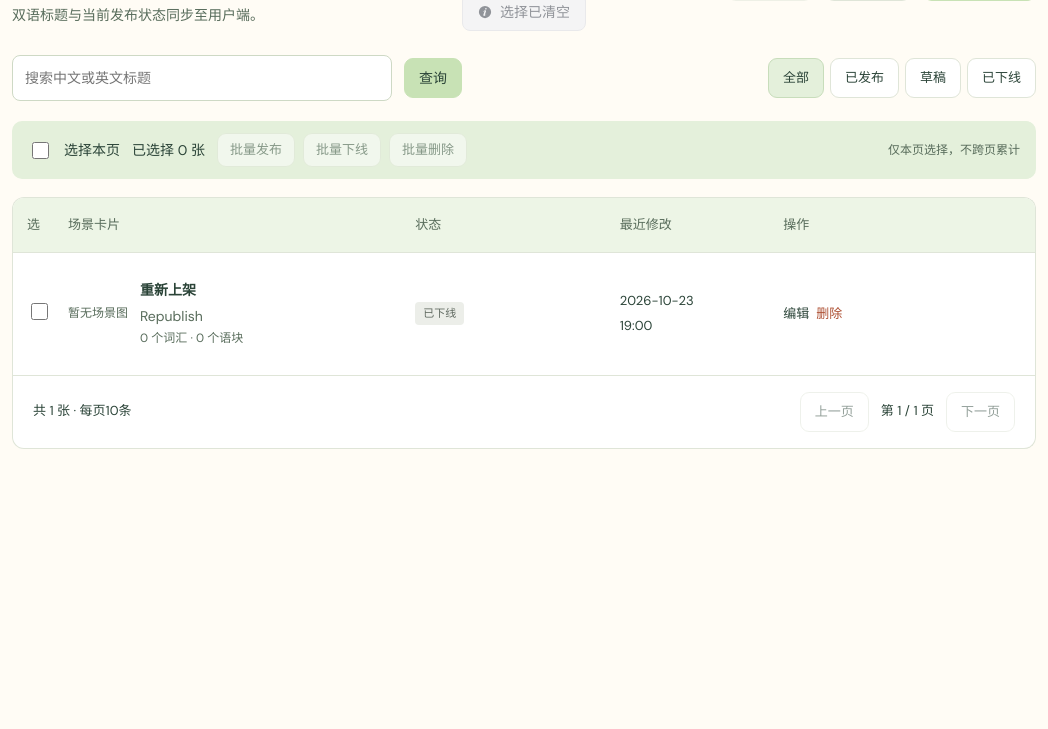
refreshes an unchanged offline card only after Worker success (dialog closed: true)
Click the checkbox named "选择本页卡片" at (40, 150), box [32, 142, 49, 159]
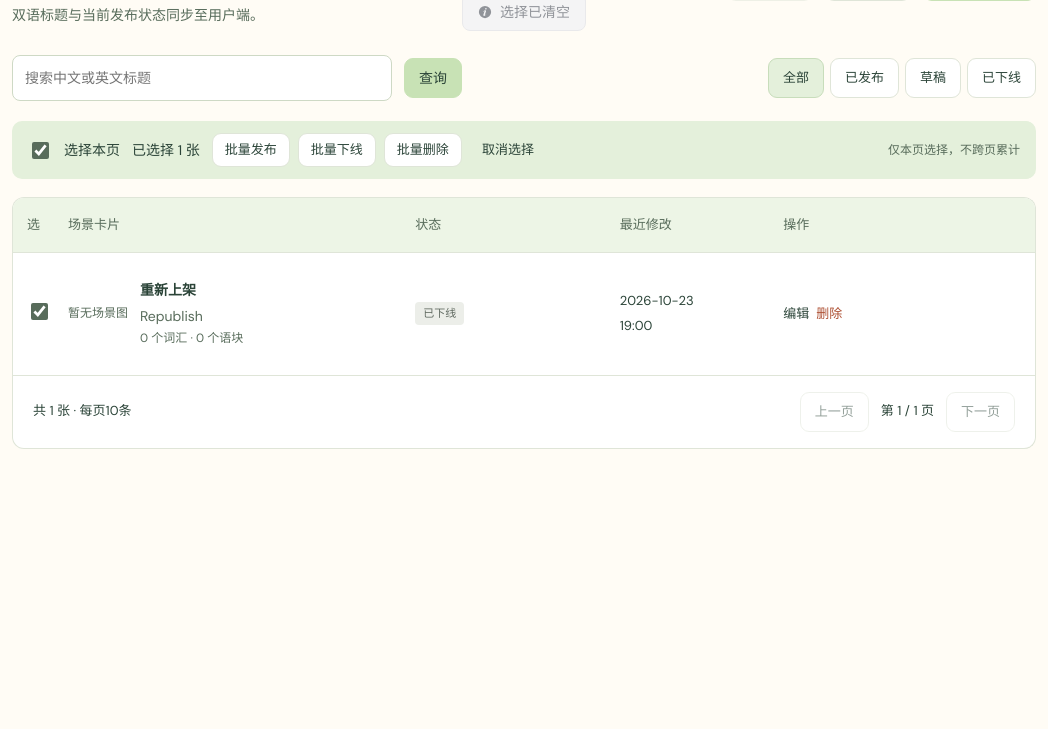
Click the button "批量发布" at (251, 150), box [212, 133, 290, 167]
(page scrolled)
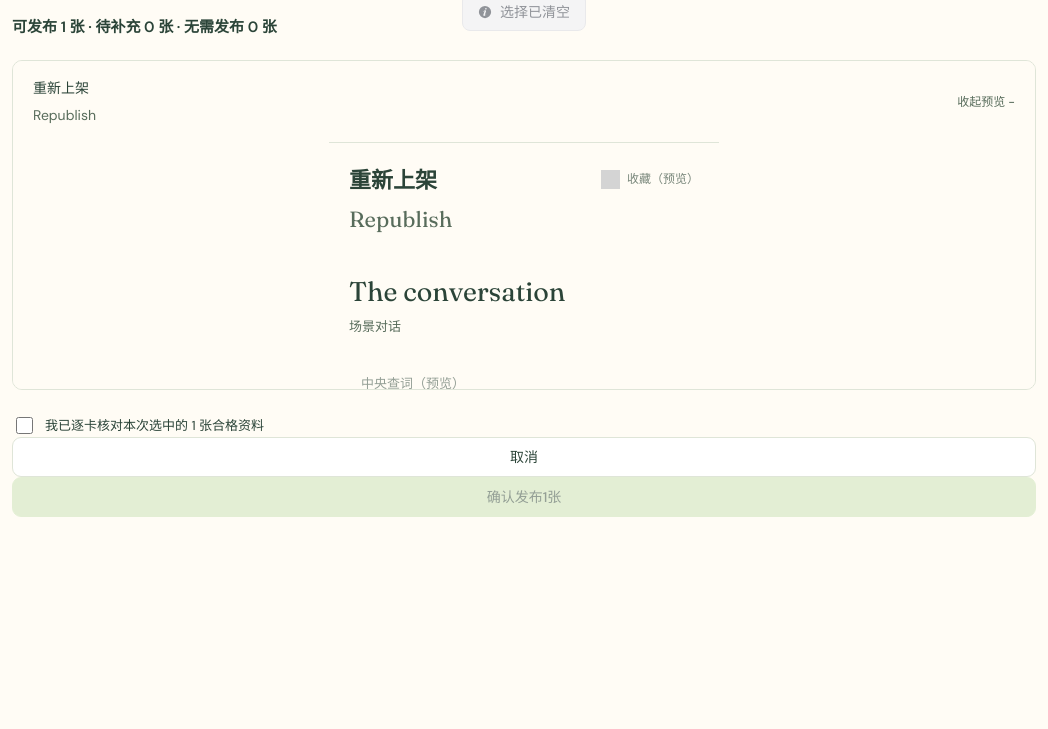
Result: the text "可发布 1 张" is shown at [12, 17, 277, 37]
Click the checkbox labelled "我已逐卡核对本次选中的 1 张合格资料" at (24, 426), box [16, 418, 33, 434]
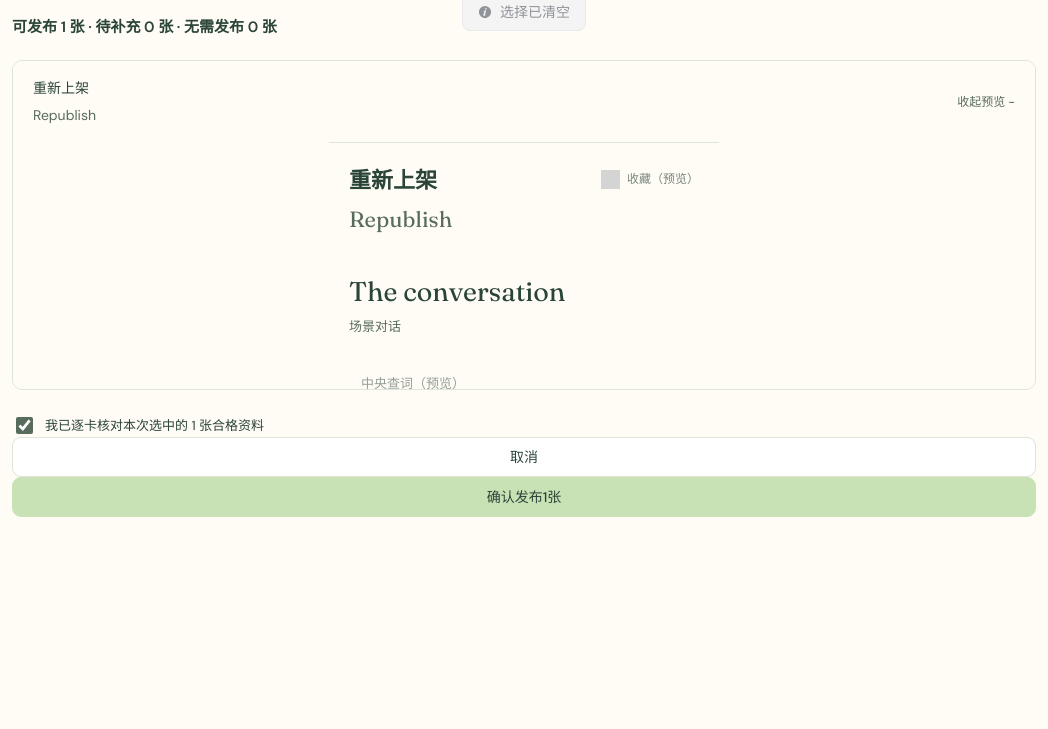
Click the button "确认发布1张" at (524, 498), box [12, 478, 1036, 518]
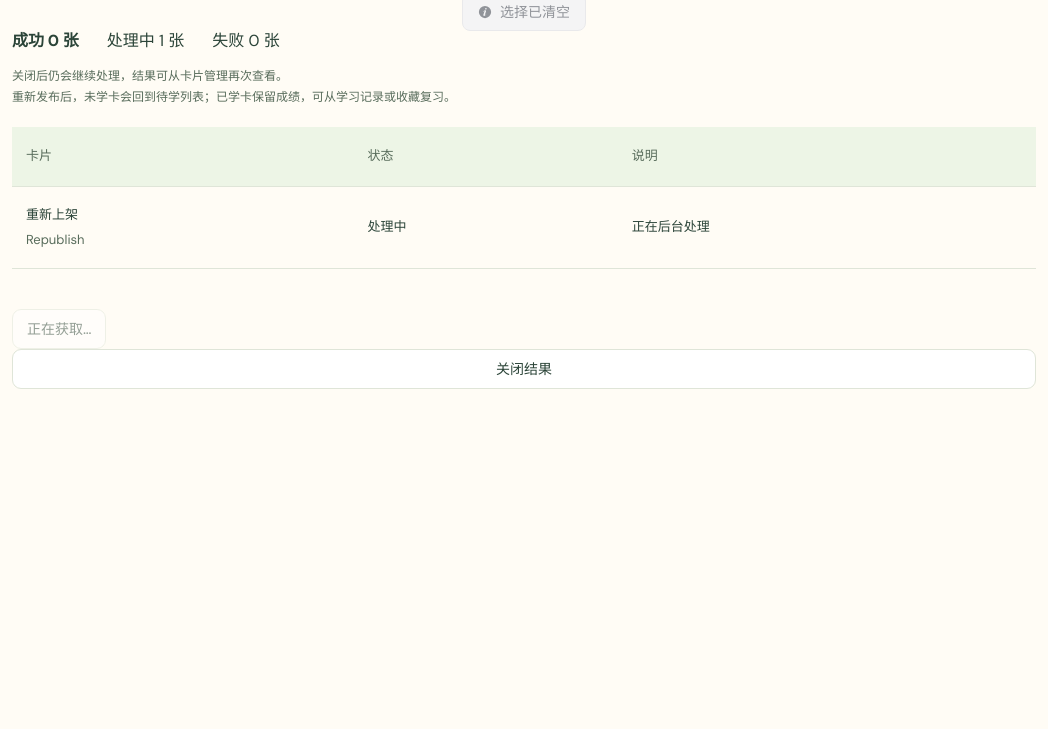
Result: the element with class "result-totals" shows "成功 0 张" at [12, 30, 79, 51]
Result: the element with class "result-totals" shows "处理中 1 张" at [107, 30, 184, 51]
Click the button "关闭结果" at (524, 369), box [12, 349, 1036, 389]
Wait 5100 ms
(page scrolled)
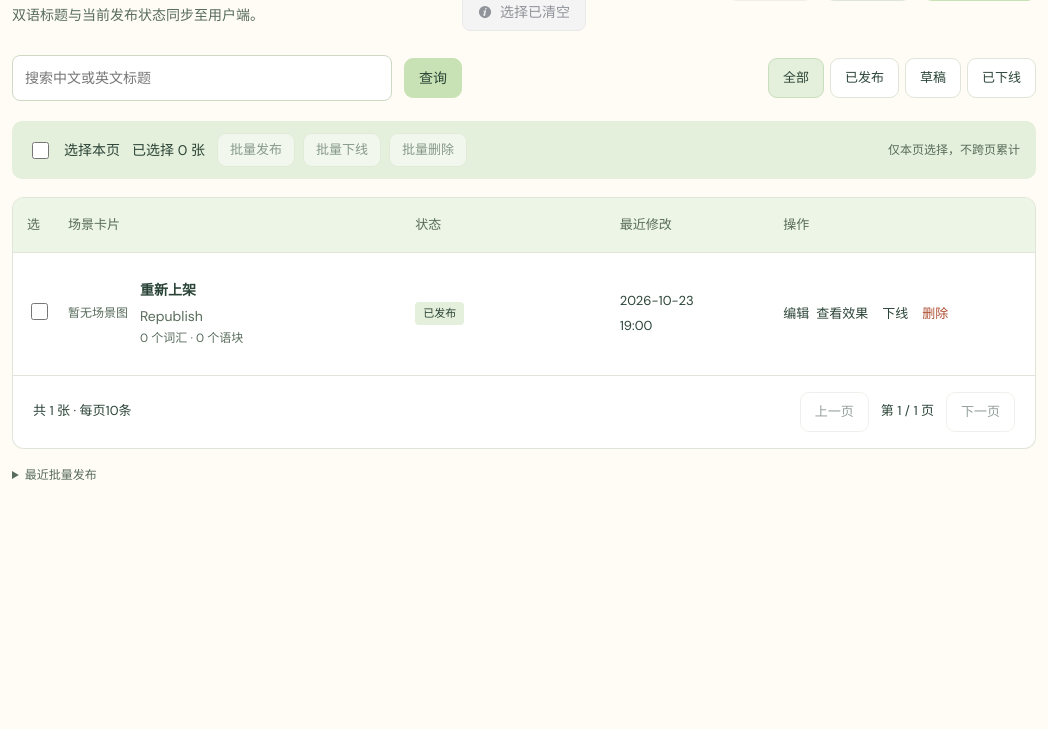
Result: the table shows "已发布" at [423, 306, 456, 320]
